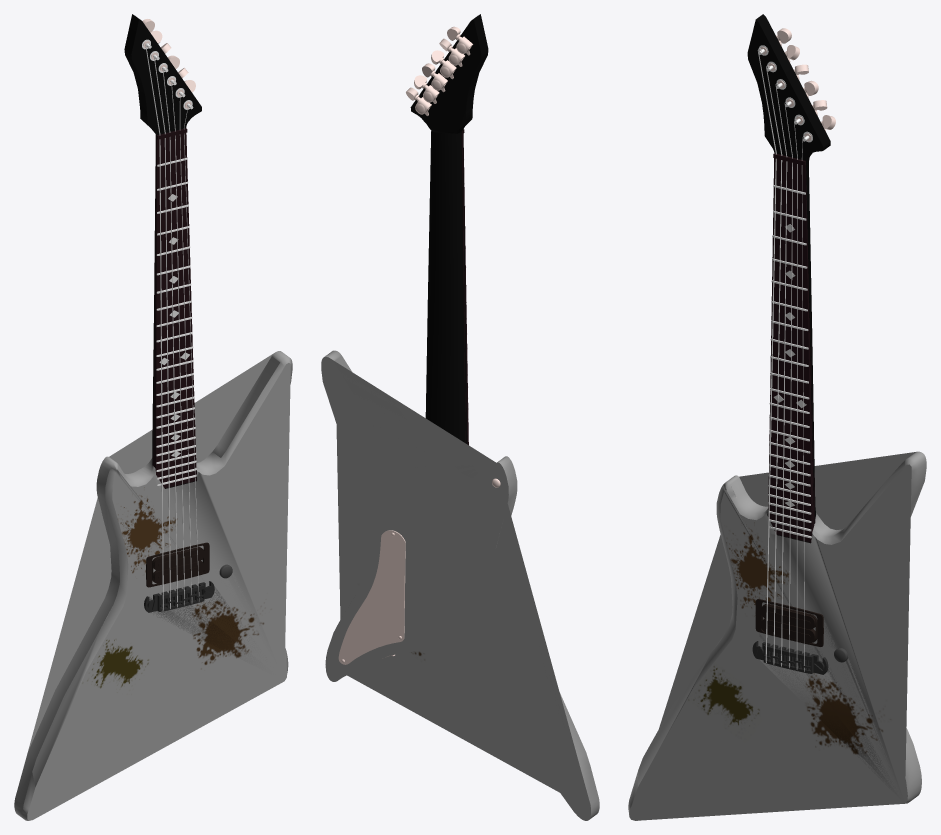
The model's file is chuckguitar (1).fbx.
3 renders of one model, left to right at view 1: azimuth 30°, elevation 25°; view 2: azimuth 150°, elevation 25°; view 3: azimuth 330°, elevation 25°, orthographic. The views are drawn at different scales.
Visible parts, largest first — view 1: Body_low.002, Shield_low.001, Body_low.001, Shield_low.002, Pickup2_low.001, Bridge_low.001, Tuner3_low.001; view 2: Body_low.002, Body_low.001, BackCover_low.001, Tuner2_low.001, Shield_low.001, Tuner3_low.001; view 3: Body_low.002, Shield_low.001, Body_low.001, Shield_low.002, Pickup2_low.001, Bridge_low.001, Tuner3_low.001.
Boxes of the visible parts, x1=… form: Body_low.002: x1=14, y1=351, x2=292, y2=820; Shield_low.001: x1=152, y1=128, x2=196, y2=488; Body_low.001: x1=124, y1=14, x2=201, y2=488; Shield_low.002: x1=145, y1=43, x2=199, y2=611; Pickup2_low.001: x1=146, y1=542, x2=209, y2=587; Bridge_low.001: x1=144, y1=581, x2=214, y2=612; Tuner3_low.001: x1=142, y1=19, x2=195, y2=92; Body_low.002: x1=321, y1=350, x2=599, y2=820; Body_low.001: x1=410, y1=14, x2=488, y2=443; BackCover_low.001: x1=338, y1=530, x2=405, y2=664; Tuner2_low.001: x1=415, y1=36, x2=472, y2=115; Shield_low.001: x1=461, y1=129, x2=468, y2=445; Tuner3_low.001: x1=406, y1=26, x2=470, y2=108; Body_low.002: x1=628, y1=451, x2=926, y2=820; Shield_low.001: x1=768, y1=153, x2=815, y2=542; Body_low.001: x1=747, y1=14, x2=830, y2=543; Shield_low.002: x1=757, y1=48, x2=805, y2=671; Pickup2_low.001: x1=755, y1=599, x2=823, y2=646; Bridge_low.001: x1=752, y1=641, x2=828, y2=674; Tuner3_low.001: x1=777, y1=28, x2=835, y2=129.
Bounding box in the file's own units: 177 × 486 × 22.85.
Materials: 9 (1 with a texture image).
